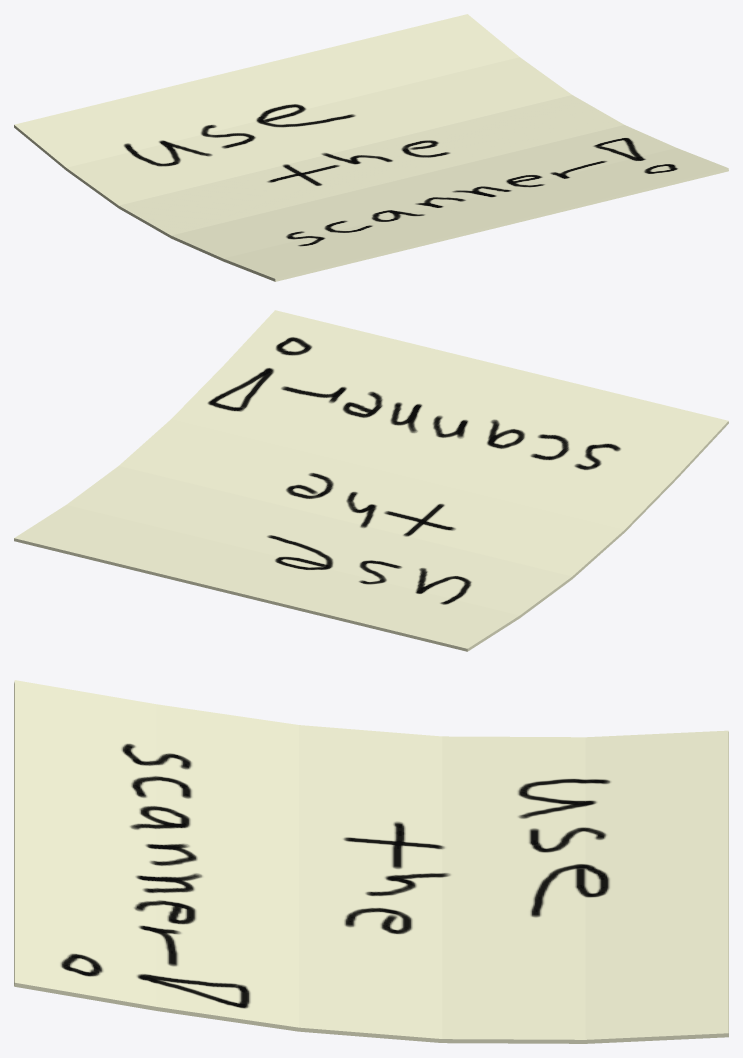
Rendered from skannermessage.fbx.
3 views of the same model, one above another, from view 1: azimuth 30°, elevation 25°; view 2: azimuth 150°, elevation 25°; view 3: azimuth 270°, elevation 25° (orthographic). The views are drawn at different scales.
Parts seen in each view (by area): view 1: Plane; view 2: Plane; view 3: Plane.
Part boxes in pixels (left/top/right/bottom): Plane: left=14, top=14, right=728, bottom=281; Plane: left=14, top=310, right=728, bottom=651; Plane: left=14, top=680, right=728, bottom=1043.
Size of the model in its own units: 200 by 18.86 by 200.
